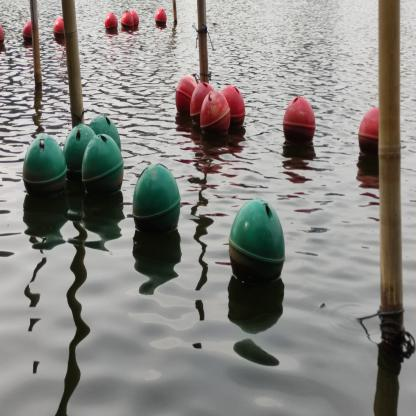green_buoy: (228, 196, 288, 289), (130, 161, 184, 238), (23, 132, 67, 205), (81, 133, 125, 200), (63, 123, 98, 186), (88, 112, 124, 164)
red_buoy: (281, 92, 318, 150), (199, 89, 231, 140), (357, 107, 382, 159), (220, 85, 247, 132), (189, 82, 215, 124), (174, 72, 198, 117), (51, 15, 66, 40), (104, 12, 119, 33), (120, 10, 134, 32), (154, 7, 168, 28), (22, 18, 33, 44), (129, 9, 140, 29), (0, 22, 6, 47)
